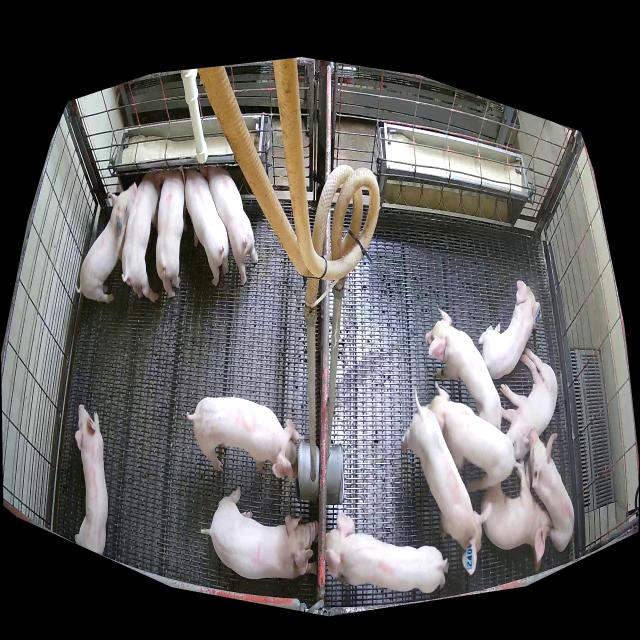pig: (402, 390, 492, 575), (200, 490, 318, 583), (186, 396, 305, 484), (325, 510, 449, 593), (425, 380, 516, 492), (425, 307, 501, 430), (480, 465, 553, 571), (75, 182, 137, 303), (200, 166, 258, 284), (498, 347, 558, 459), (478, 280, 543, 379), (180, 166, 229, 286), (528, 429, 574, 552), (121, 172, 161, 303), (75, 405, 108, 554), (156, 169, 184, 299)
